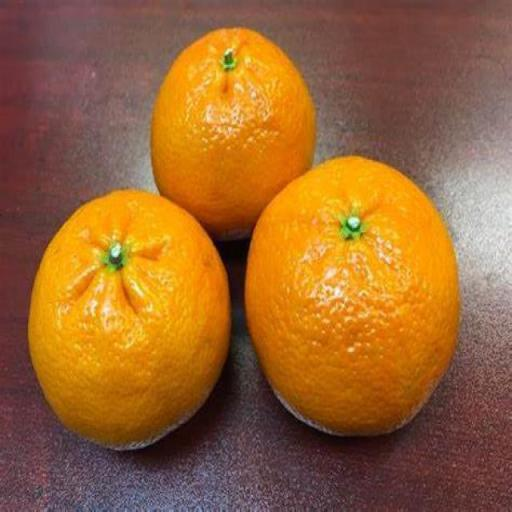fruit: (246, 156, 457, 434), (29, 192, 227, 448), (150, 29, 313, 236)
